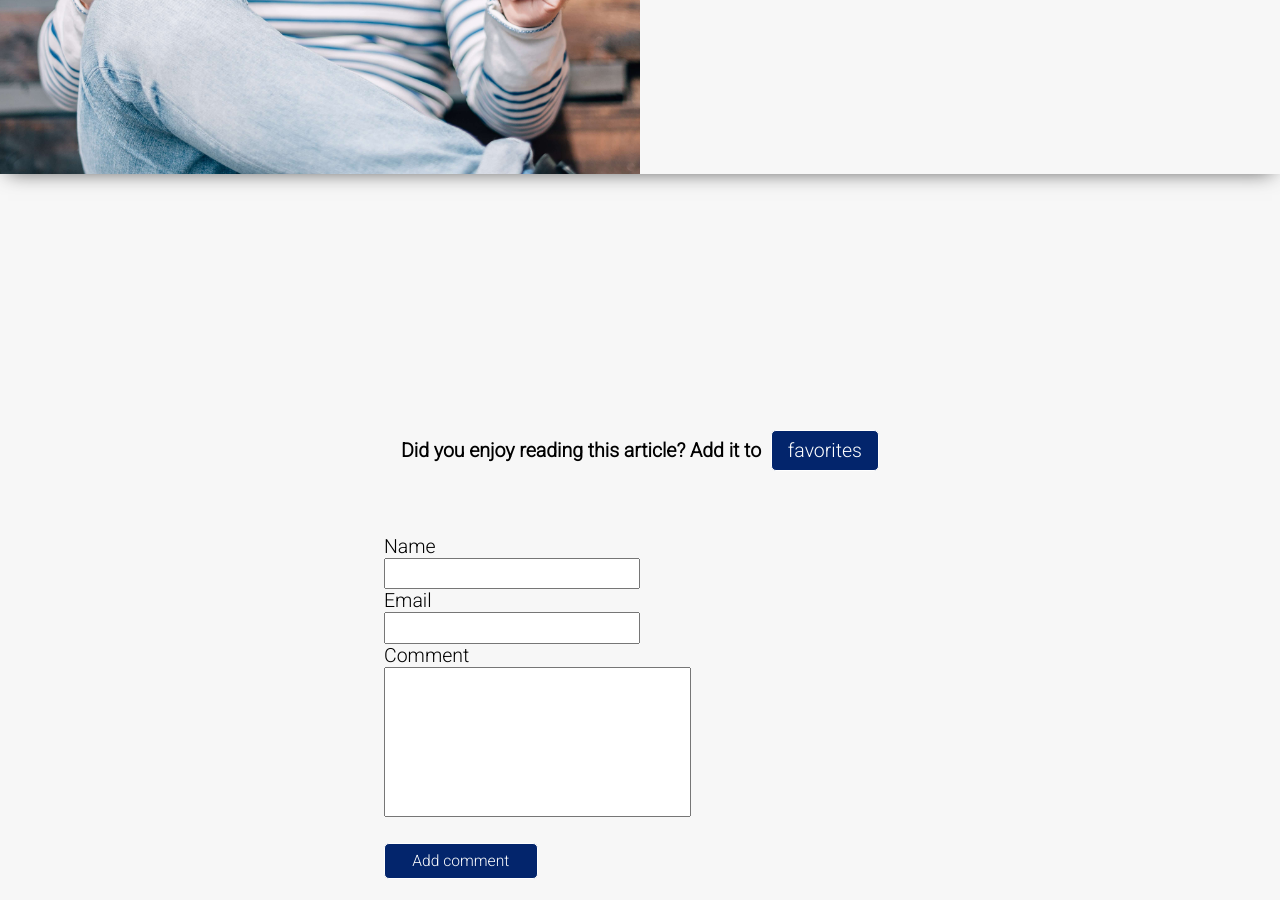
Test: Favorite button isnt visible after adding to favorites and article is saved in localstorage
(page scrolled)
Click the button with test id "favoriteButton" at (825, 450), box [771, 430, 879, 471]
(page scrolled)
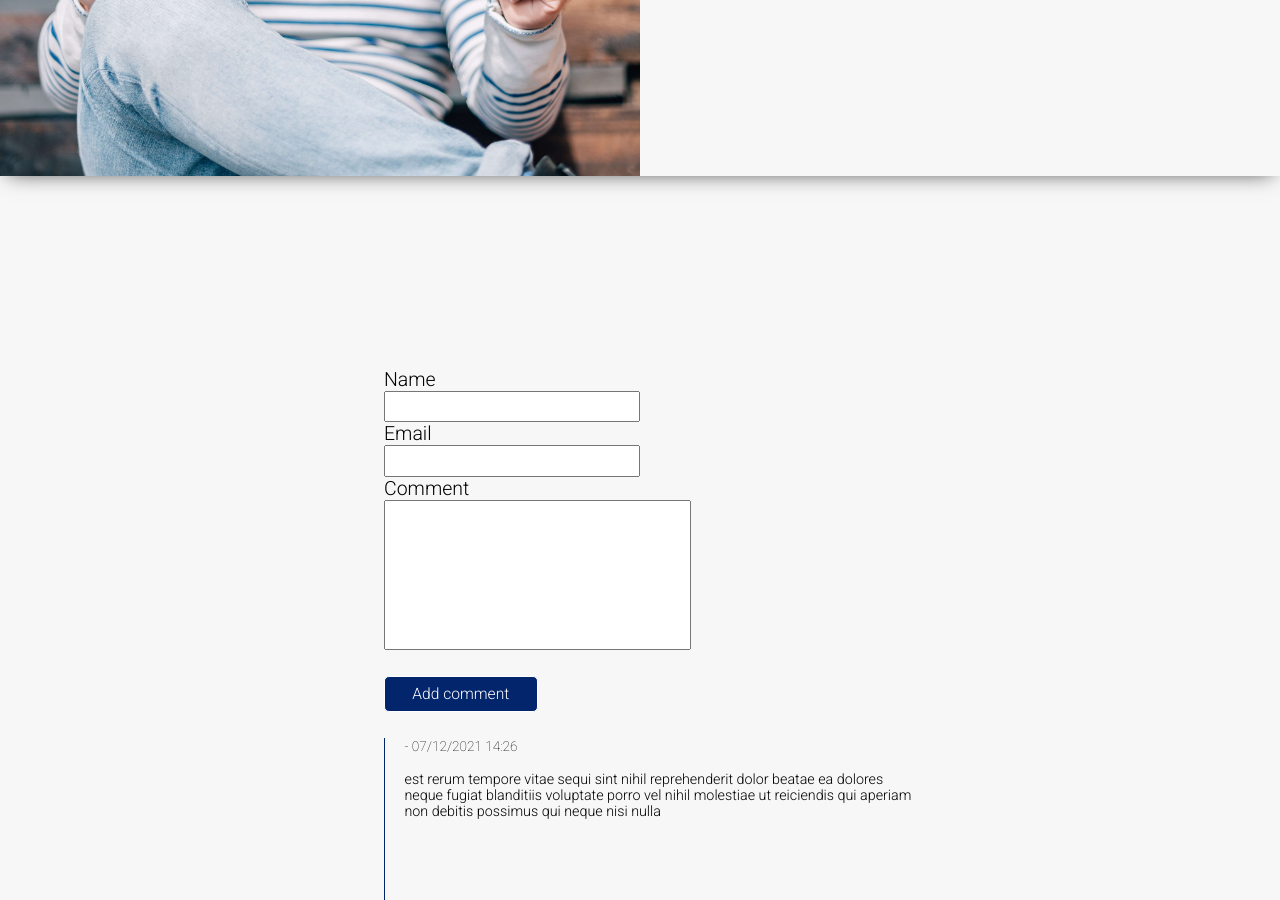
Expected: the button with test id "favoriteButton" is gone
